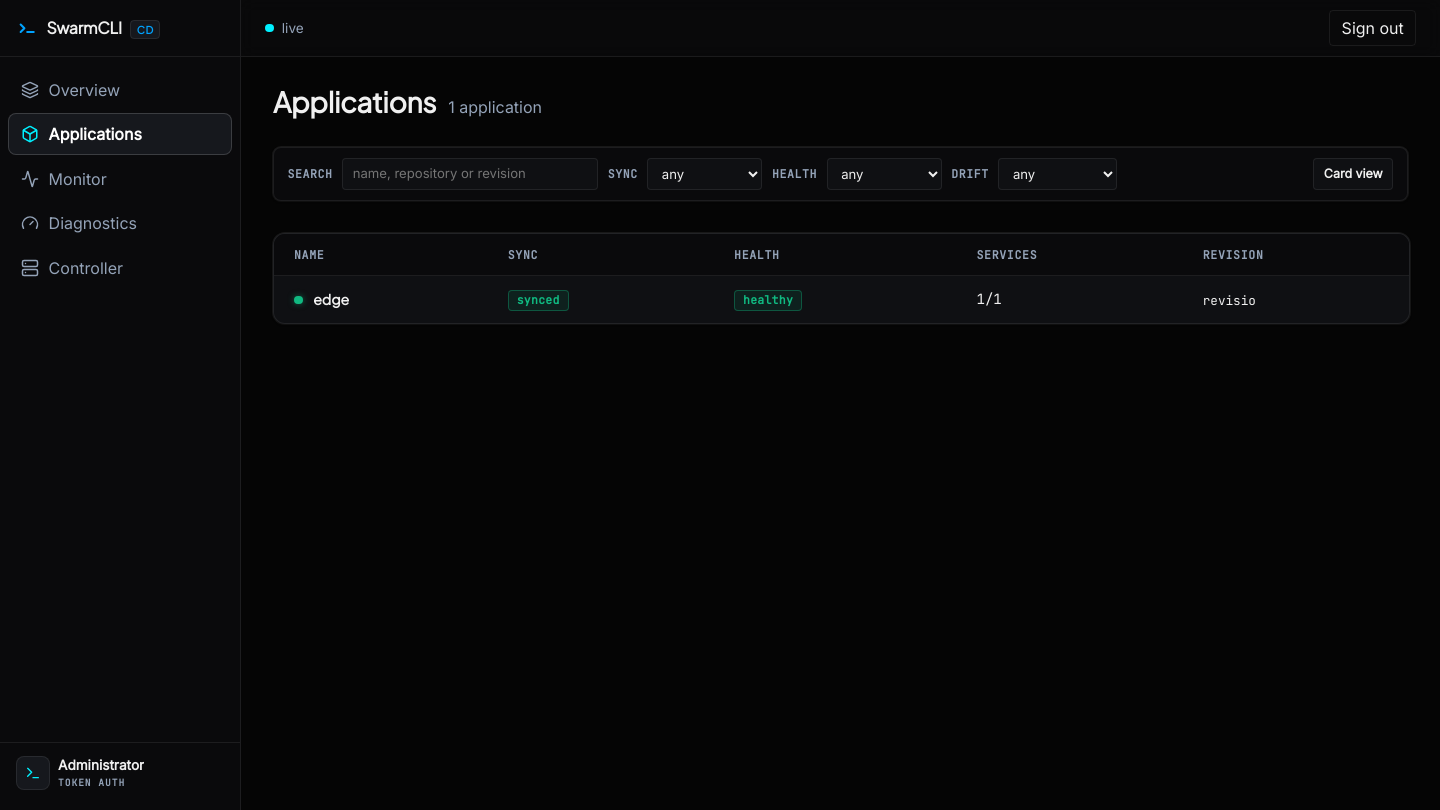
Test: the monitor › does not report a quiet controller when a filter matched nothing
Check: the text "1 application" is shown, box [448,95,542,119]
What coordinates should you click on to do the following:
click the link "Monitor"
I would click on:
 (64, 179)
Its box is [21,169,107,189].
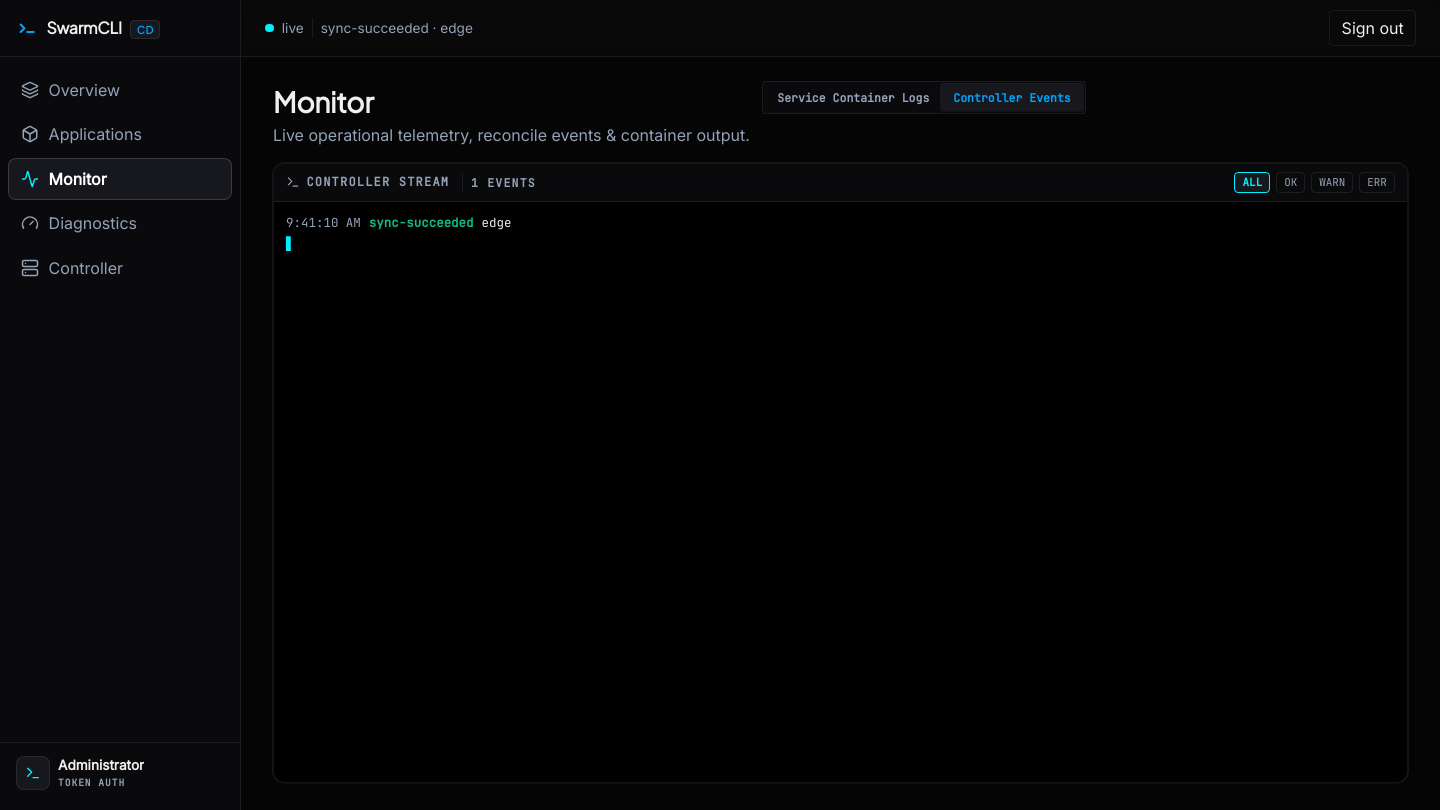
Check: the heading "Monitor" is shown, box [273,84,373,119]
Check: the text "sync-succeeded" is shown, box [369,214,474,232]
What coordinates should you click on to do the following:
click the button "warn"
I would click on:
 (1332, 182)
Its box is [1311,172,1354,193].
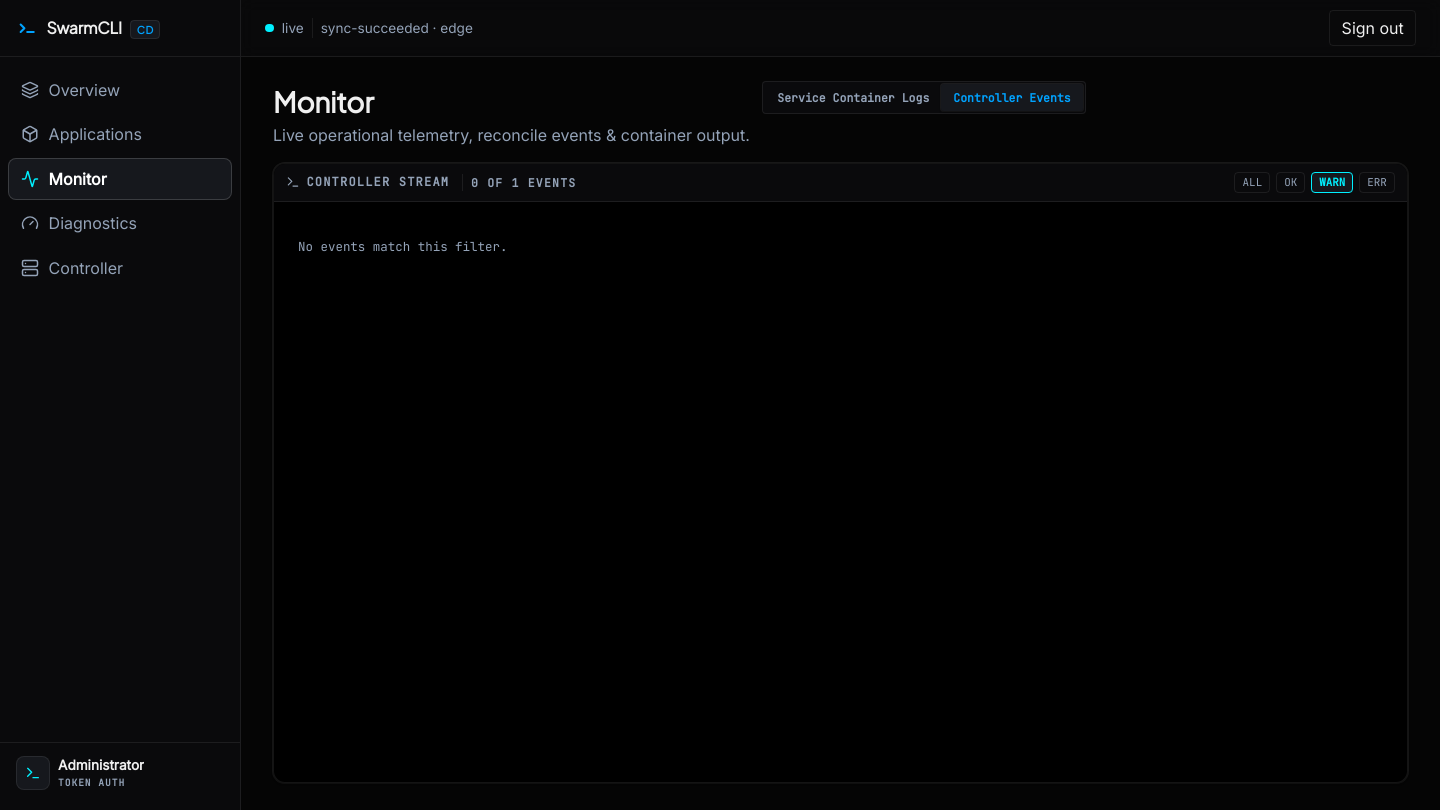
Check: the text "No events match this filter." is shown, box [298,238,508,255]
Check: the text "0 of 1 events" is shown, box [462,174,576,191]
